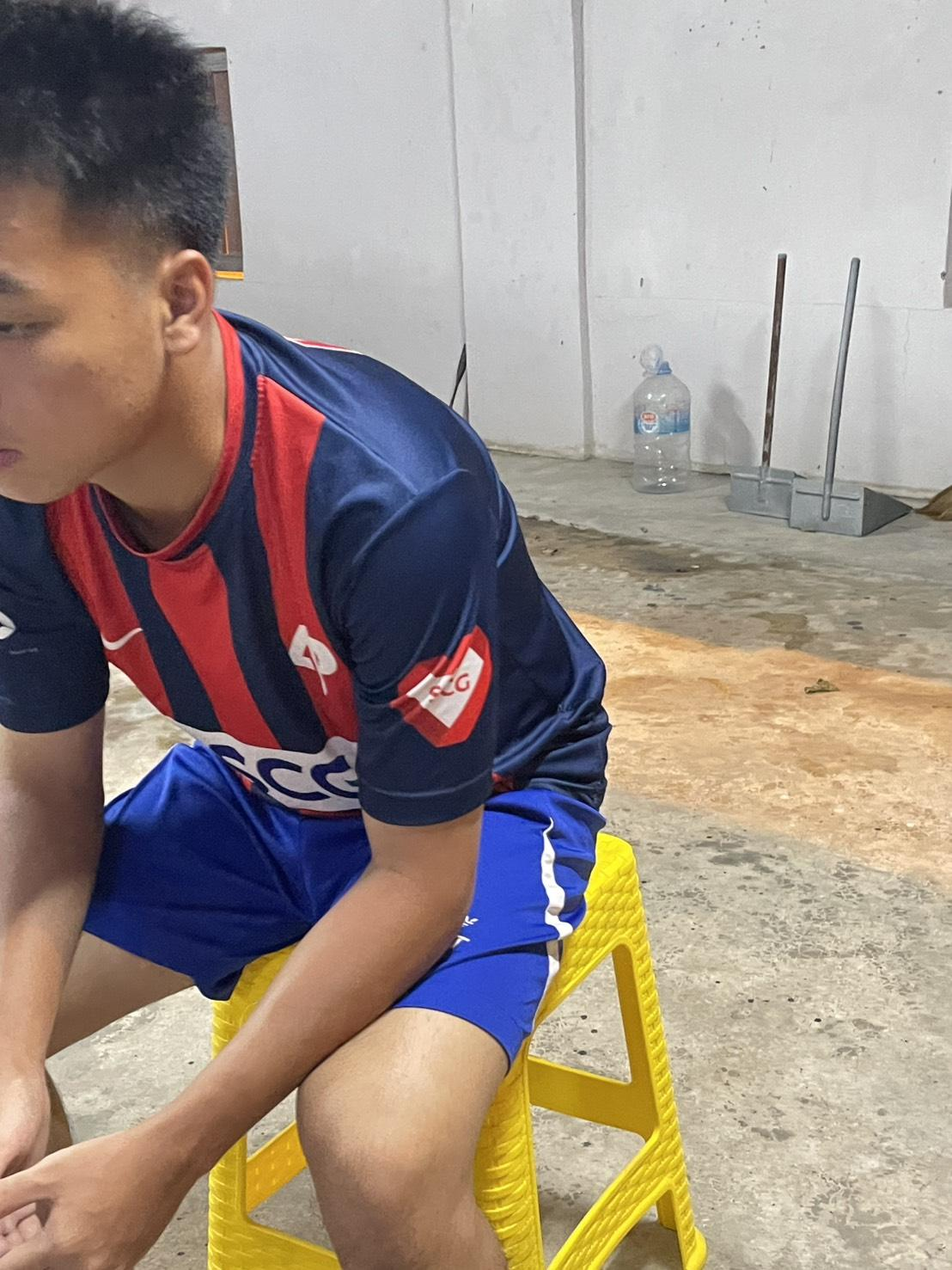BadPosture: (0, 0, 611, 887)
